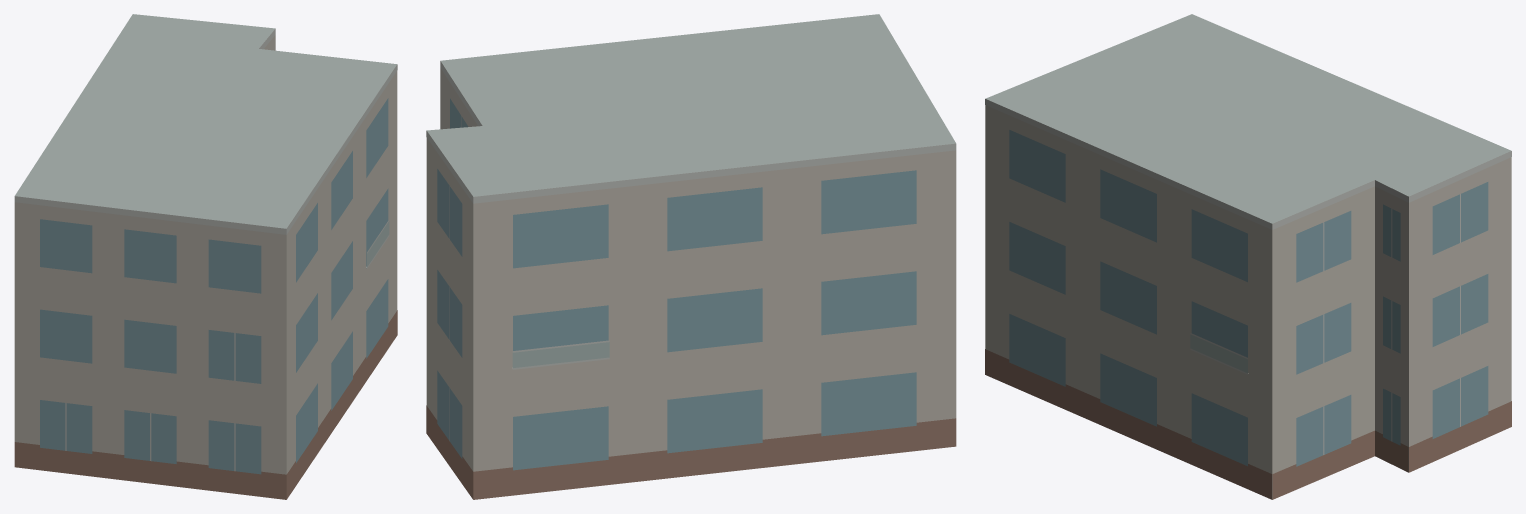
Rendered from survey-upis-32776161.glb.
3 views of the same model, side by side, from view 1: azimuth 30°, elevation 25°; view 2: azimuth 150°, elevation 25°; view 3: azimuth 270°, elevation 25° (orthographic). The views are drawn at different scales.
Visible parts, largest first — view 1: survey-upis-32776161.tmp; view 2: survey-upis-32776161.tmp; view 3: survey-upis-32776161.tmp.
Part boxes in pixels (left/top/right/bottom): survey-upis-32776161.tmp: left=14, top=14, right=397, bottom=499; survey-upis-32776161.tmp: left=426, top=14, right=956, bottom=499; survey-upis-32776161.tmp: left=985, top=14, right=1511, bottom=499.
Bounding box in the file's own units: 17.78 × 10.9 × 18.85.
